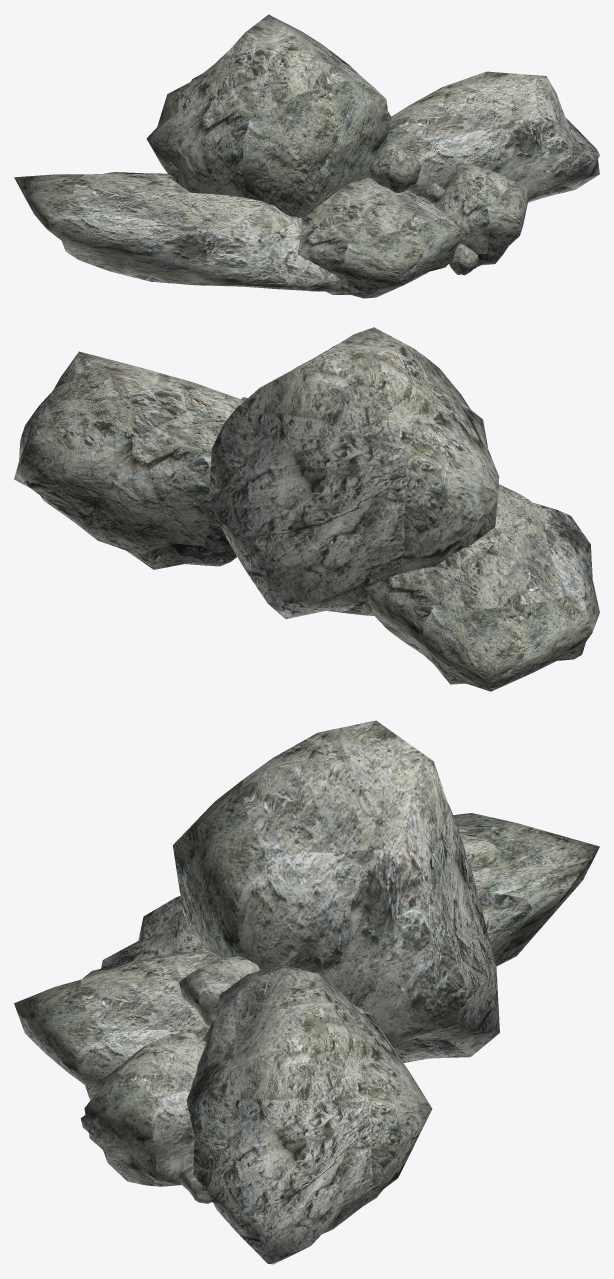
The model's file is RockGroup.FBX.
The picture shows the model from 3 angles, top to bottom: view 1: azimuth 30°, elevation 25°; view 2: azimuth 150°, elevation 25°; view 3: azimuth 270°, elevation 25°; orthographic projection. The views are drawn at different scales.
Visible parts, largest first — view 1: rockLP004, rockLP009, rockLP003, rockLP002, rockLP001, rockLP008, rockLP005; view 2: rockLP004, rockLP003, rockLP009; view 3: rockLP004, rockLP003, rockLP002, rockLP009, rockLP001, rockLP008.
Part boxes in pixels (x1=…): rockLP004: x1=146, y1=14, x2=391, y2=217; rockLP009: x1=14, y1=172, x2=341, y2=291; rockLP003: x1=386, y1=71, x2=599, y2=202; rockLP002: x1=297, y1=178, x2=461, y2=298; rockLP001: x1=434, y1=163, x2=527, y2=267; rockLP008: x1=369, y1=140, x2=420, y2=192; rockLP005: x1=449, y1=243, x2=478, y2=275; rockLP004: x1=209, y1=327, x2=499, y2=618; rockLP003: x1=14, y1=351, x2=242, y2=569; rockLP009: x1=364, y1=484, x2=599, y2=691; rockLP004: x1=173, y1=720, x2=499, y2=1062; rockLP003: x1=186, y1=965, x2=432, y2=1264; rockLP002: x1=14, y1=950, x2=221, y2=1100; rockLP009: x1=101, y1=813, x2=599, y2=968; rockLP001: x1=84, y1=1033, x2=206, y2=1186; rockLP008: x1=179, y1=956, x2=259, y2=1026.
Size of the model in its own units: 342 by 144 by 223.
Materials: 1 (1 with a texture image).
